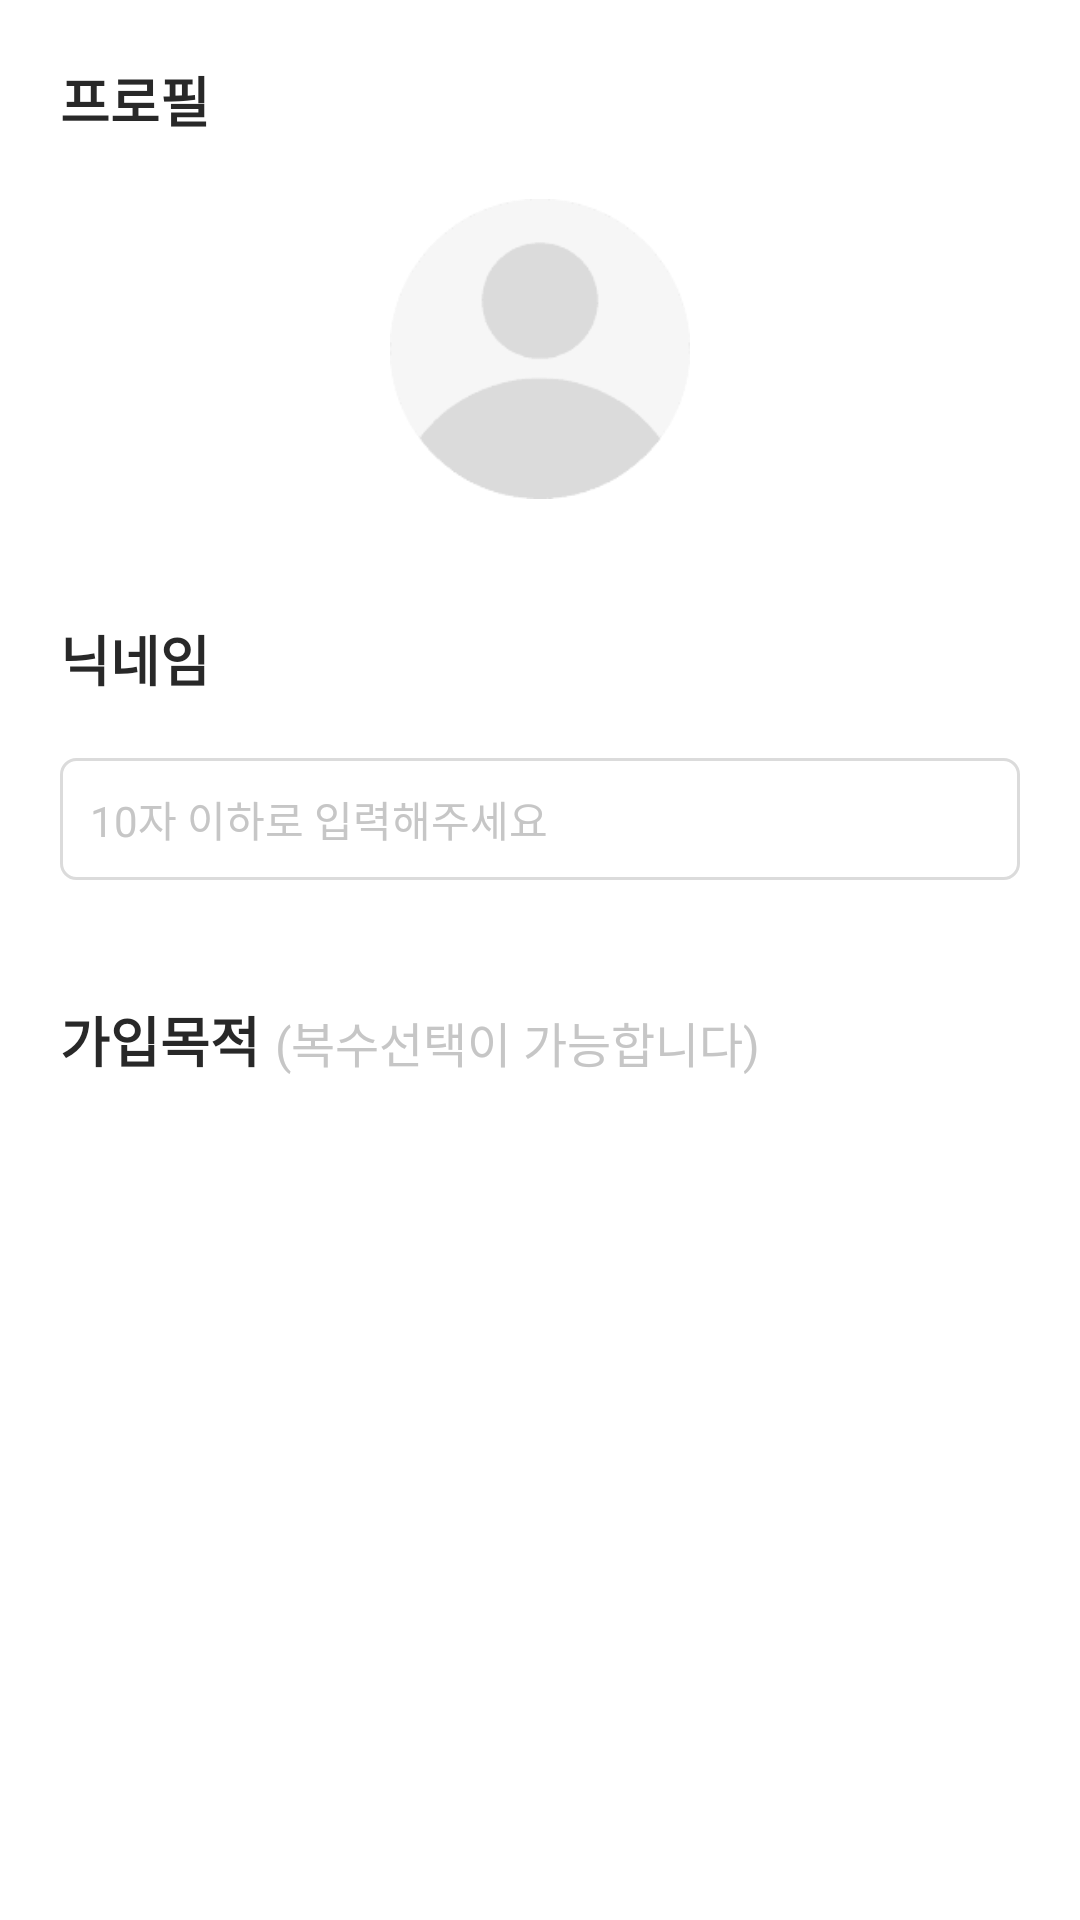

Point at icon controls on the screen. Image size 1080px x 1920px, points as (x,y).
person: (540,349)
